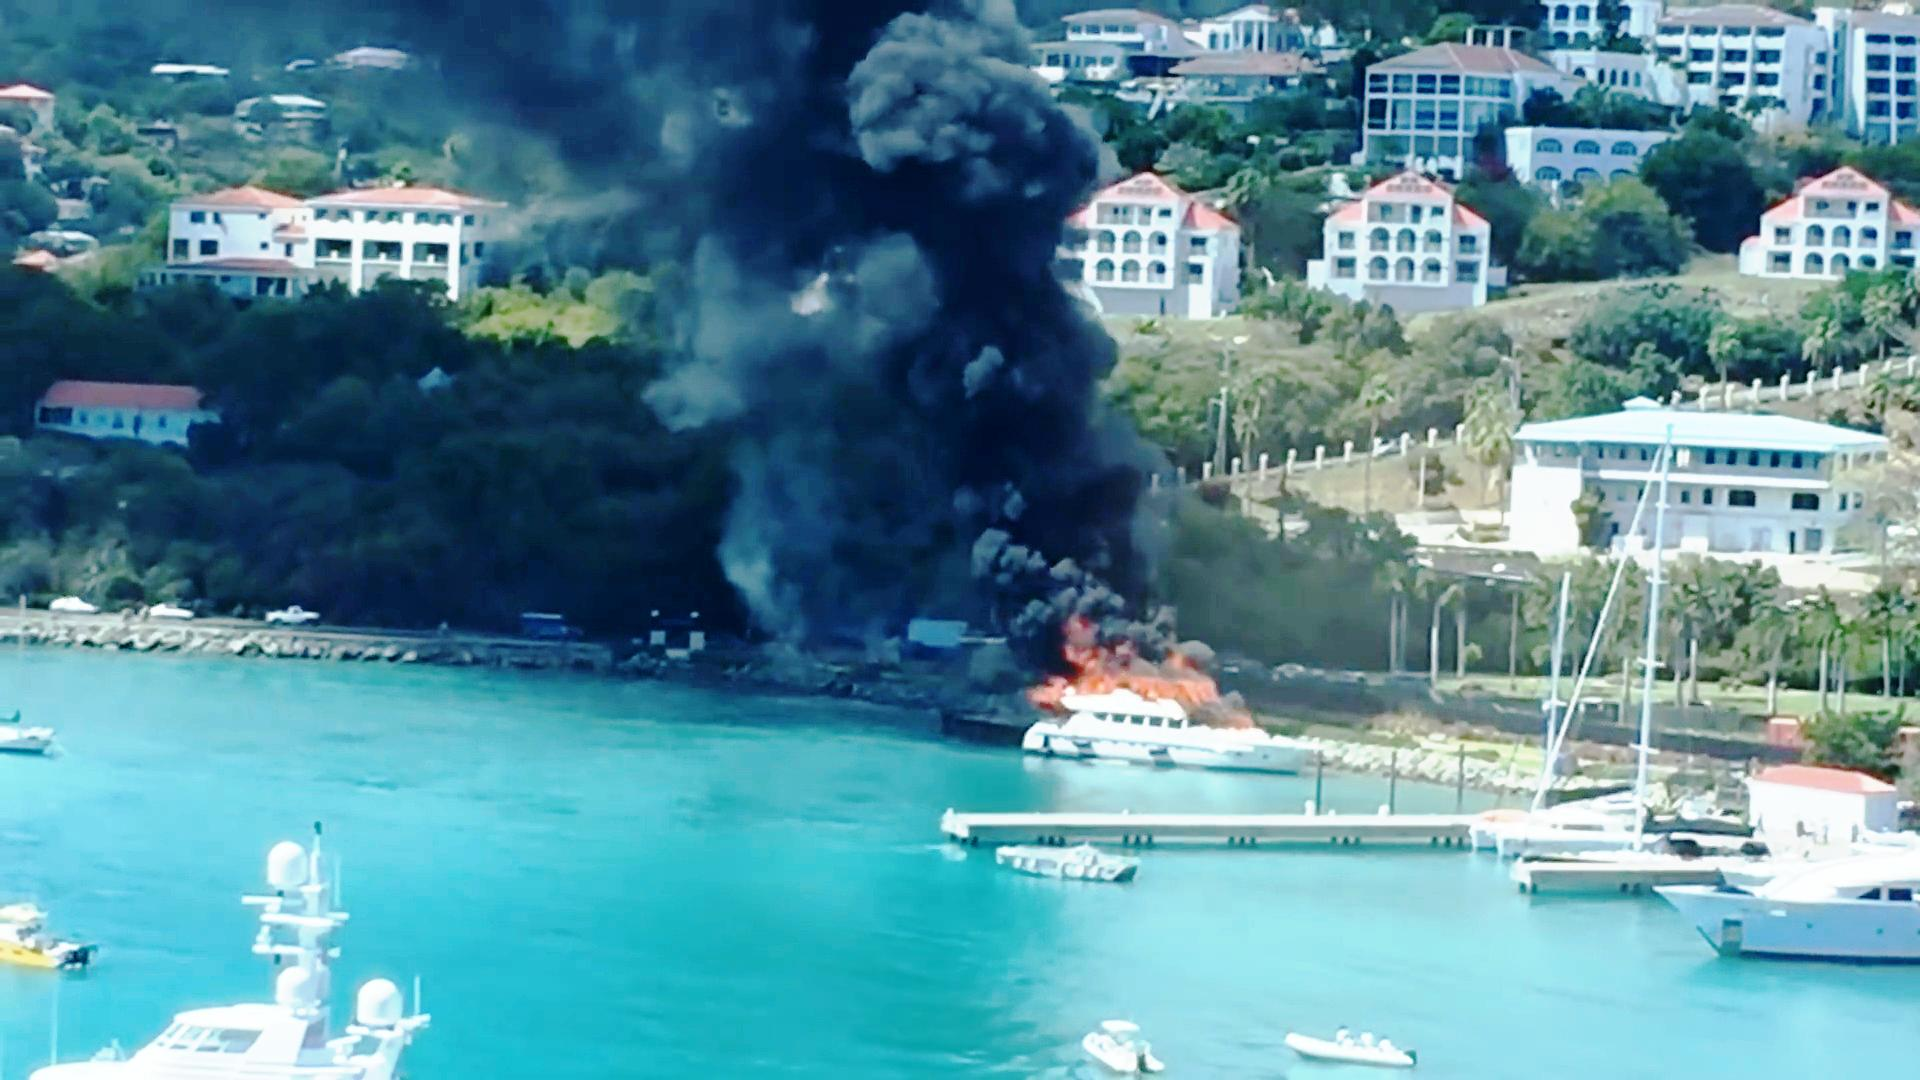smoke: (839, 5, 1135, 336), (884, 320, 1155, 630)
